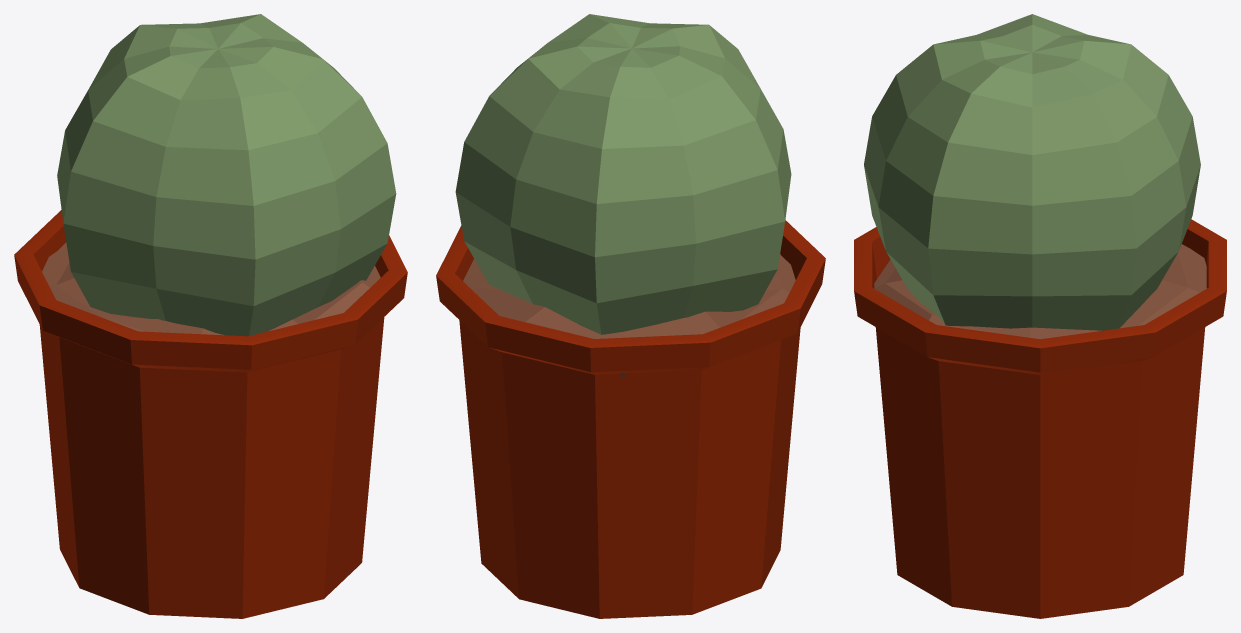
File: Plant_Cactus.fbx
The picture shows the model from 3 angles, left to right: view 1: azimuth 30°, elevation 25°; view 2: azimuth 150°, elevation 25°; view 3: azimuth 270°, elevation 25°; orthographic projection.
Visible parts, largest first — view 1: cactusplant1; view 2: cactusplant1; view 3: cactusplant1.
Boxes of the visible parts, x1=… form: cactusplant1: x1=14, y1=14, x2=407, y2=618; cactusplant1: x1=436, y1=14, x2=825, y2=618; cactusplant1: x1=854, y1=14, x2=1226, y2=618.
Size of the model in its own units: 32.81 by 47 by 31.2.
